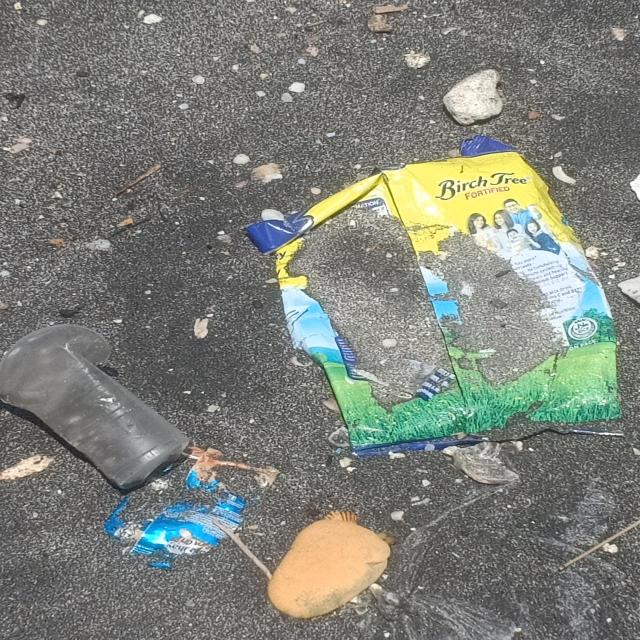plastic_waste: (246, 133, 627, 459), (1, 323, 193, 493), (103, 462, 250, 571)
